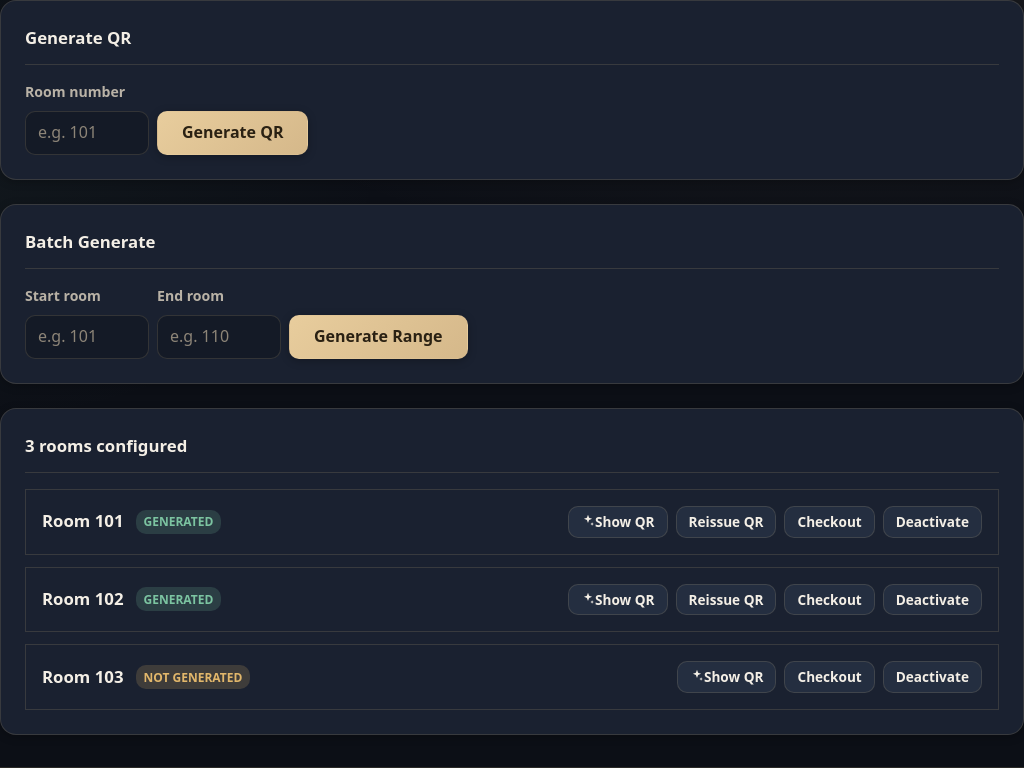
Test case: StaffRoomsQRView › validates room number input
This screenshot has width=1024, height=768.
Check: the text "Room 101" is shown, box x1=42 y1=508 x2=124 y2=535
Type "99999" into the number field labelled "Room number".
click(87, 133); type("99999")  # box x1=25 y1=111 x2=149 y2=155
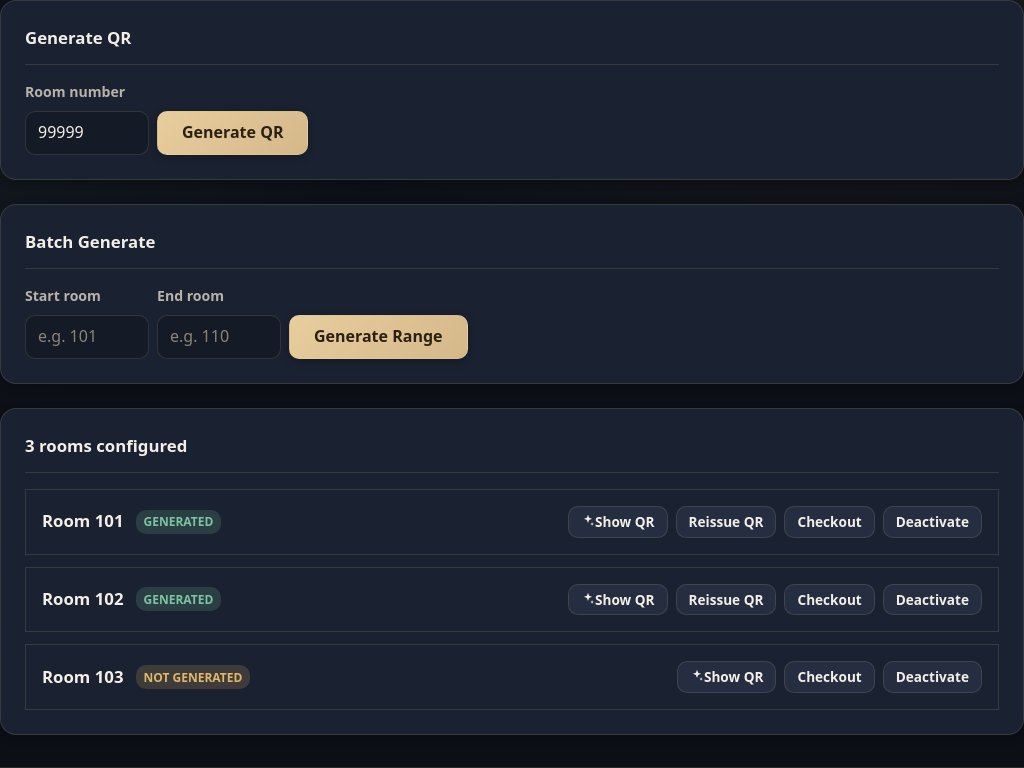
Submit the form "Room number Generate QR", box x1=25 y1=82 x2=308 y2=155
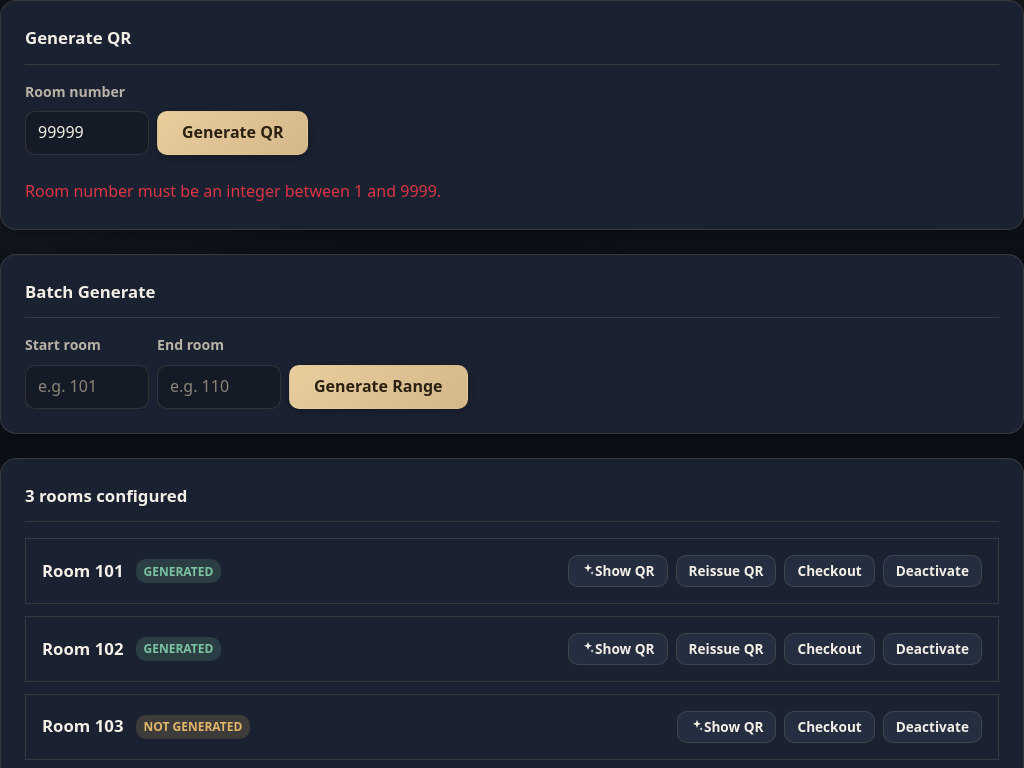
Check: the text "Room number must be an integer between 1 and 9999." is shown, box x1=25 y1=180 x2=441 y2=202
